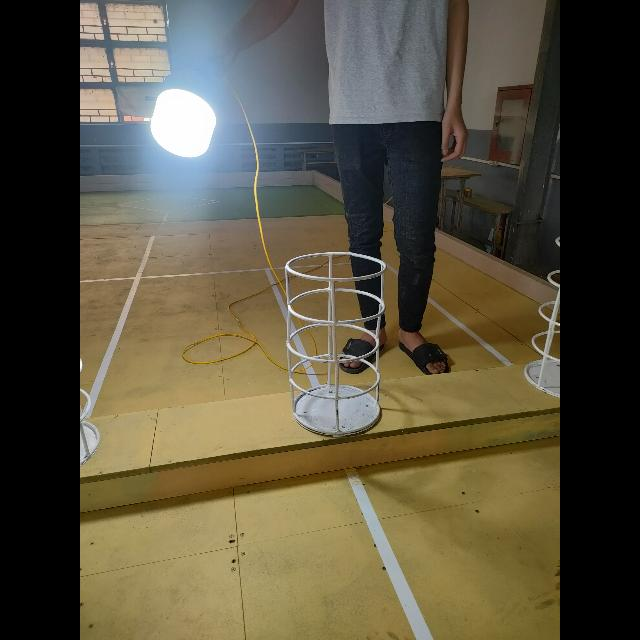S: (286, 250, 386, 438), (524, 234, 560, 398)
